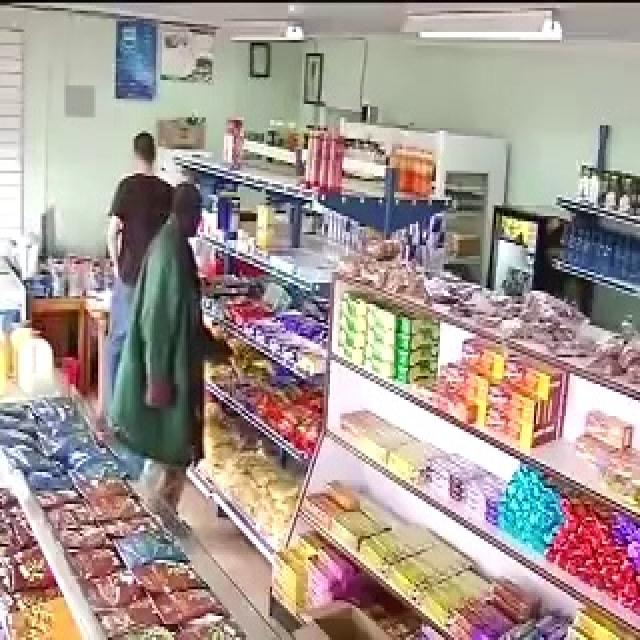Product: (213, 338, 255, 392)
normal: (115, 114, 178, 200)
shoplifting: (109, 180, 268, 505)
